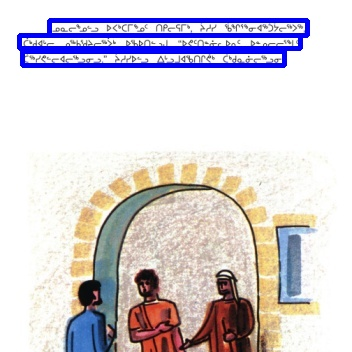inuktitut: (49, 20, 307, 35), (22, 51, 284, 65), (19, 35, 300, 48)
